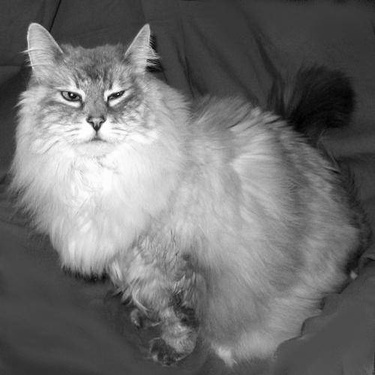cat: (5, 12, 370, 372)
